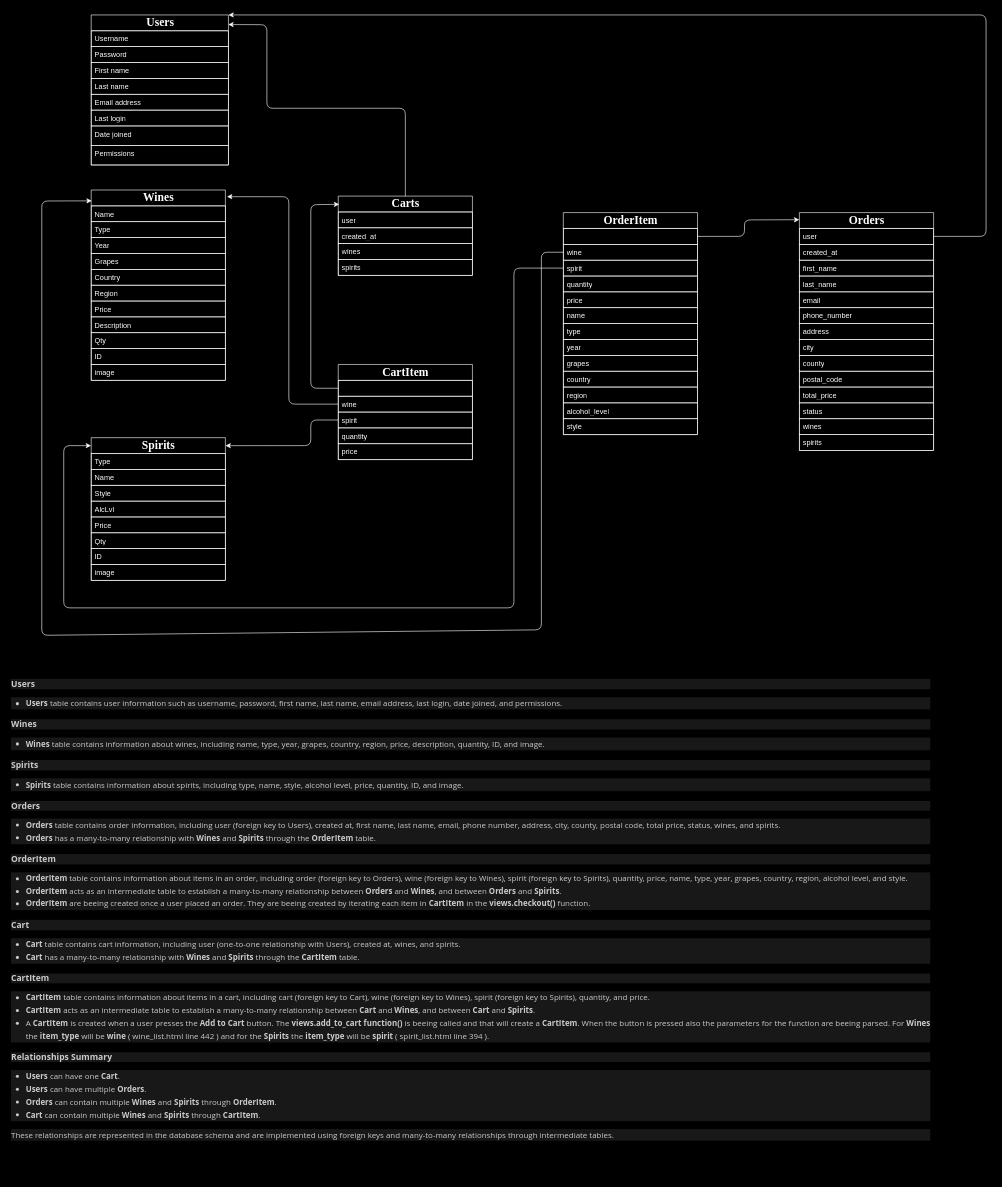
Some shapes in this 1002 by 1187 pixel diagram are drawn without their labels. Here are the shapes that lost their labels. From the top down, the centre of each, then its label:
(x=630, y=236): order
(x=405, y=388): cart
